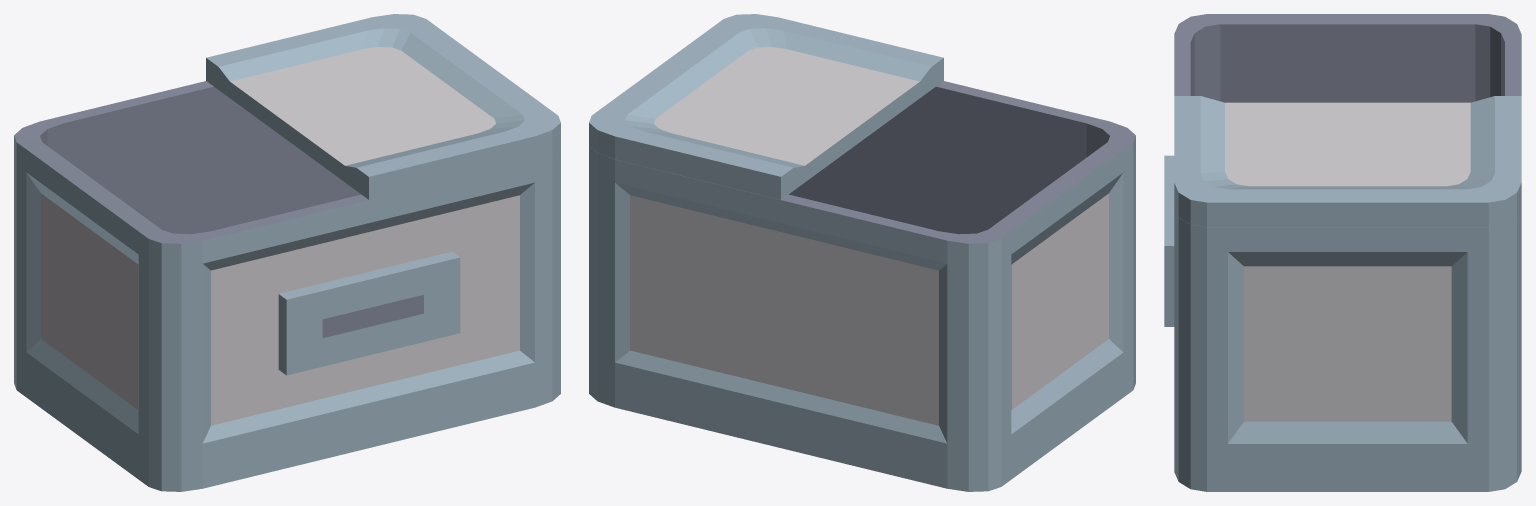
Rendered from Chest.fbx.
3 views of the same model, side by side, from view 1: azimuth 30°, elevation 25°; view 2: azimuth 150°, elevation 25°; view 3: azimuth 270°, elevation 25° (orthographic). The views are drawn at different scales.
Parts seen in each view (by area): view 1: Chest, ChestCap, ChestButton; view 2: Chest, ChestCap; view 3: Chest, ChestCap, ChestButton.
Boxes of the visible parts, box(x1,y1,x2,y2) form: Chest: box(14, 81, 560, 491); ChestCap: box(206, 14, 560, 199); ChestButton: box(278, 251, 460, 375); Chest: box(589, 81, 1135, 491); ChestCap: box(589, 14, 943, 199); Chest: box(1174, 14, 1521, 491); ChestCap: box(1174, 96, 1521, 226); ChestButton: box(1164, 155, 1174, 326).
Size of the model in its own units: 316 by 200 by 224.
